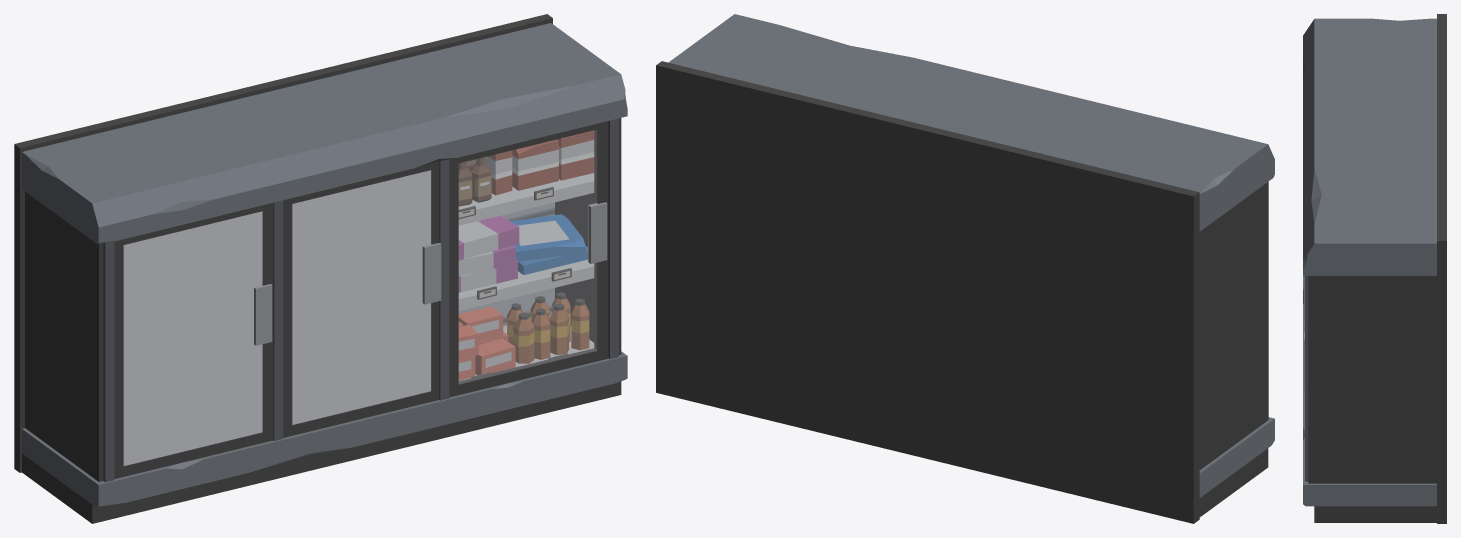
Rendered from SM_Prop_ShopFridge_01.fbx.
3 renders of one model, left to right at view 1: azimuth 30°, elevation 25°; view 2: azimuth 150°, elevation 25°; view 3: azimuth 270°, elevation 25°, orthographic. The views are drawn at different scales.
Visible parts, largest first — view 1: SM_Prop_ShopFridge_01; view 2: SM_Prop_ShopFridge_01; view 3: SM_Prop_ShopFridge_01.
Boxes of the visible parts, x1,y1,x2,y2 form: SM_Prop_ShopFridge_01: (14,14,627,523); SM_Prop_ShopFridge_01: (656,14,1274,523); SM_Prop_ShopFridge_01: (1303,14,1446,523).
Bounding box in the file's own units: 394 × 229 × 106.
